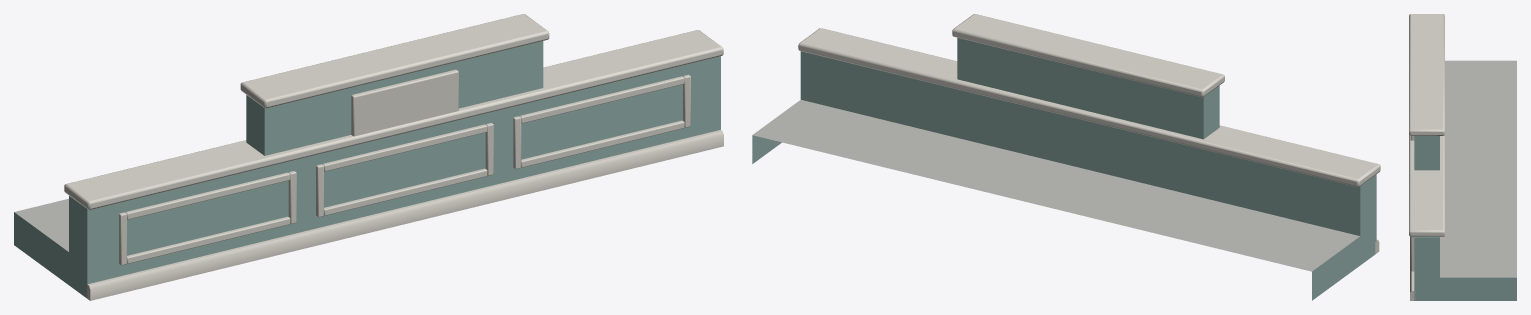
Rendered from cap_parapet_6.glb.
The picture shows the model from 3 angles, left to right: view 1: azimuth 30°, elevation 25°; view 2: azimuth 150°, elevation 25°; view 3: azimuth 270°, elevation 25°; orthographic projection. The views are drawn at different scales.
Parts seen in each view (by area): view 1: cap_parapet_6; view 2: cap_parapet_6; view 3: cap_parapet_6.
Part boxes in pixels (left/top/right/bottom): cap_parapet_6: left=14, top=14, right=723, bottom=300; cap_parapet_6: left=752, top=14, right=1380, bottom=300; cap_parapet_6: left=1409, top=14, right=1516, bottom=300.
Bounding box in the file's own units: 6.02 × 1.43 × 1.26.
